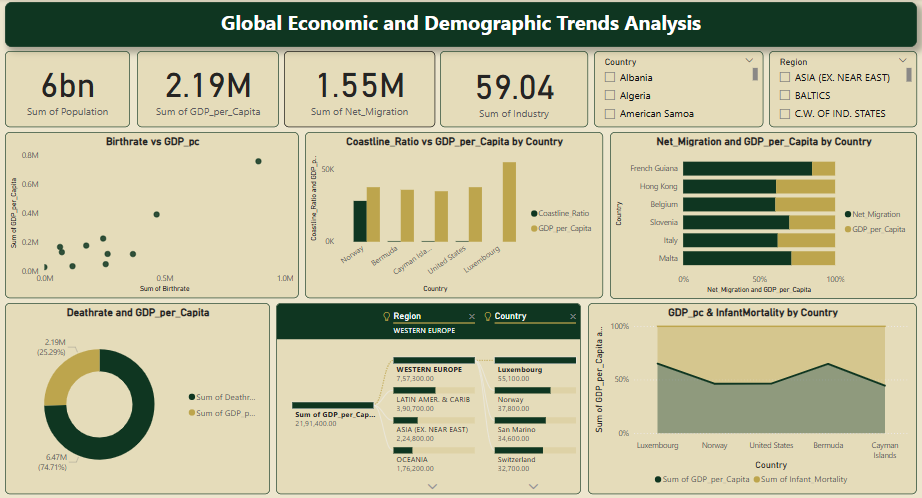

The dashboard page shown, as its layout file describes it:
{"tool":"powerbi","page":{"name":"Dashboard","canvas":[1480,800],"ordinal":5},"visuals":[{"type":"textbox","box":[9.6,4.8,1459.2,72],"z":0},{"type":"card","fields":{"Values":["Sum(countries countries_world.Population)"]},"box":[9.6,83.2,200,121.6],"z":1000},{"type":"card","fields":{"Values":["Sum(countries countries_world.GDP_per_Capita)"]},"box":[220.8,83.2,227.2,121.6],"z":2000},{"type":"card","fields":{"Values":["Sum(countries countries_world.Net_Migration)"]},"box":[456,83.2,241.6,121.6],"z":3000},{"type":"scatterChart","title":"Birthrate vs GDP_pc","fields":{"Category":["countries countries_world.Region"],"X":["Sum(countries countries_world.Birthrate)"],"Y":["Sum(countries countries_world.GDP_per_Capita)"]},"box":[9.6,212.8,470.4,265.6],"z":4000},{"type":"clusteredColumnChart","title":"Coastline_Ratio vs GDP_per_Capita by Country","fields":{"Y":["Sum(countries countries_world.Coastline_Ratio)","Sum(countries countries_world.GDP_per_Capita)"],"Category":["countries countries_world.Country"]},"box":[489.6,212.8,476.8,265.6],"z":5000},{"type":"donutChart","title":"Deathrate and GDP_per_Capita","fields":{"Y":["Sum(countries countries_world.Deathrate)","Sum(countries countries_world.GDP_per_Capita)"]},"box":[9.6,486.4,424,305.6],"z":6000},{"type":"hundredPercentStackedBarChart","title":"Net_Migration and GDP_per_Capita by Country","fields":{"Y":["Sum(countries countries_world.Net_Migration)","Sum(countries countries_world.GDP_per_Capita)"],"Category":["countries countries_world.Country"]},"box":[977.6,212.8,491.2,267.2],"z":7000},{"type":"hundredPercentStackedAreaChart","title":"GDP_pc & InfantMortality by Country","fields":{"Category":["countries countries_world.Country"],"Y":["Sum(countries countries_world.GDP_per_Capita)","Sum(countries countries_world.Infant_Mortality)"]},"box":[942.4,486.4,526.4,305.6],"z":8000},{"type":"card","fields":{"Values":["Sum(countries countries_world.Industry)"]},"box":[705.6,83.2,236.8,121.6],"z":9000},{"type":"slicer","fields":{"Values":["countries countries_world.Country"]},"box":[952,83.2,271,121.6],"z":10000},{"type":"slicer","fields":{"Values":["countries countries_world.Region"]},"box":[1232,83.2,236.8,121.6],"z":11000},{"type":"decompositionTreeVisual","fields":{"Analyze":["Sum(countries countries_world.GDP_per_Capita)"],"ExplainBy":["countries countries_world.Region","countries countries_world.Country"]},"box":[443.2,486.4,488,305.6],"z":12000}]}

Visuals, with their boxes in screenshot pixels (x1, y1, x2, y2), scaled from the page's 1480x800 canvas onto the 922x498 screenshot:
textbox: Rect(6, 3, 915, 48)
card - Sum(countries countries_world.Population): Rect(6, 52, 131, 127)
card - Sum(countries countries_world.GDP_per_Capita): Rect(138, 52, 279, 127)
card - Sum(countries countries_world.Net_Migration): Rect(284, 52, 435, 127)
"Birthrate vs GDP_pc" scatterChart: Rect(6, 132, 299, 298)
"Coastline_Ratio vs GDP_per_Capita by Country" clusteredColumnChart: Rect(305, 132, 602, 298)
"Deathrate and GDP_per_Capita" donutChart: Rect(6, 303, 270, 493)
"Net_Migration and GDP_per_Capita by Country" hundredPercentStackedBarChart: Rect(609, 132, 915, 299)
"GDP_pc & InfantMortality by Country" hundredPercentStackedAreaChart: Rect(587, 303, 915, 493)
card - Sum(countries countries_world.Industry): Rect(440, 52, 587, 127)
slicer - countries countries_world.Country: Rect(593, 52, 762, 127)
slicer - countries countries_world.Region: Rect(768, 52, 915, 127)
decompositionTreeVisual - Sum(countries countries_world.GDP_per_Capita) x countries countries_world.Region: Rect(276, 303, 580, 493)
